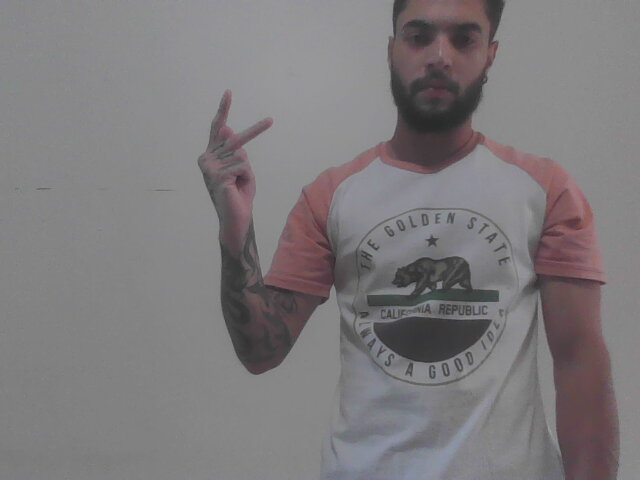h: (192, 85, 281, 226)
